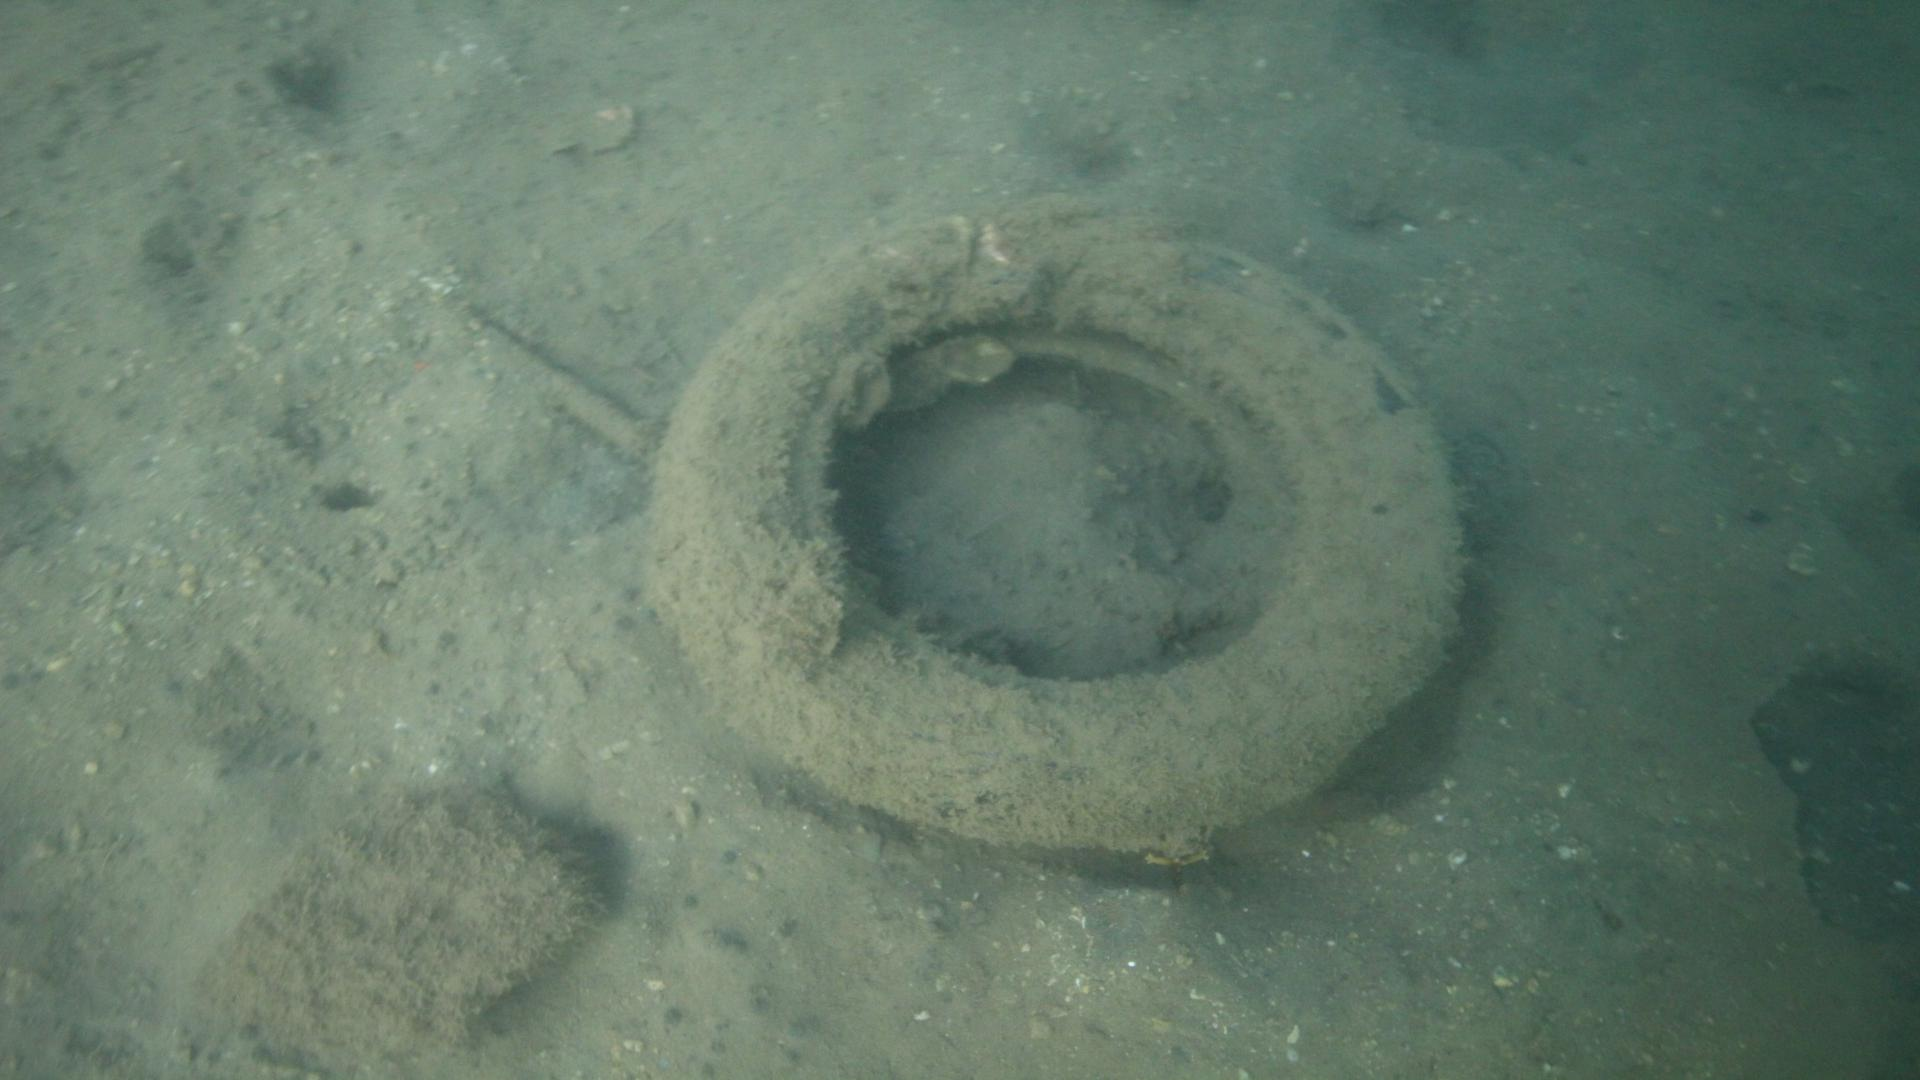tire: (650, 193, 1464, 848)
